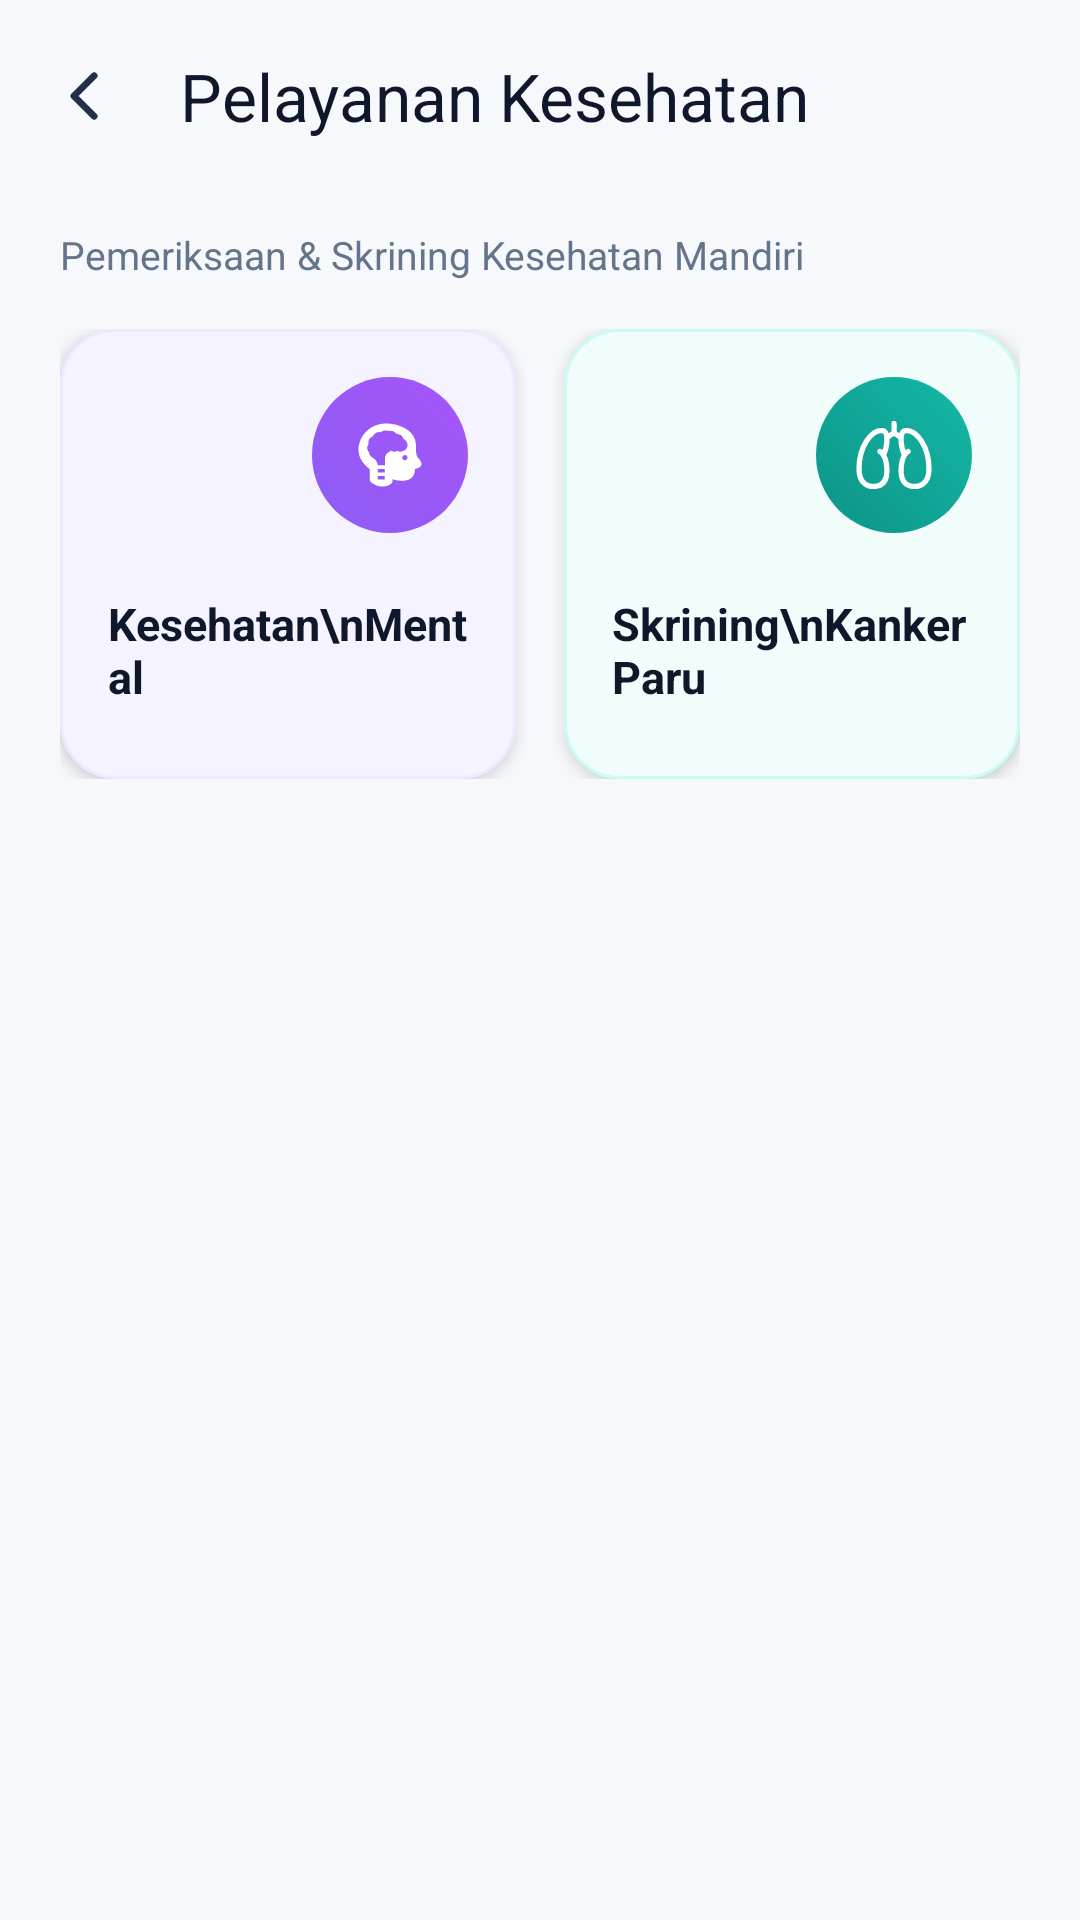

Point at icon controls on the screen. Image size 1080w x 1920h, points as point (x, y).
kesehatan mental putih: point (390, 455)
paru putih: point (894, 455)
